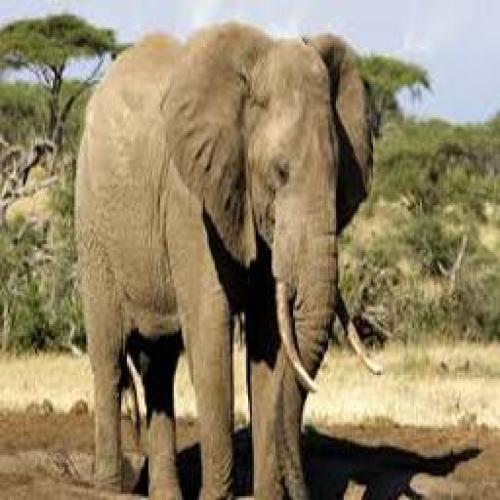african_elephant-endangered: (59, 27, 388, 500)
